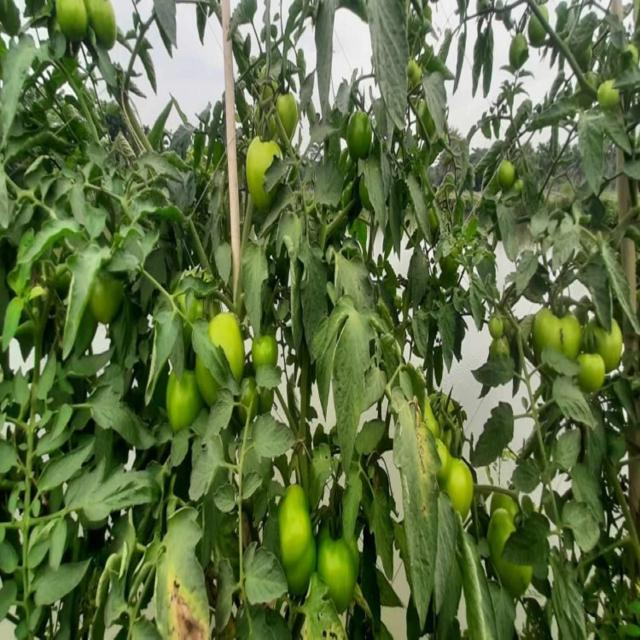tomato: (317, 533, 357, 611), (537, 303, 583, 360), (243, 134, 277, 207), (281, 491, 312, 561), (86, 3, 126, 53), (168, 373, 201, 431), (93, 268, 126, 324), (587, 322, 632, 363), (452, 459, 479, 520), (213, 313, 242, 369), (350, 105, 378, 157), (57, 1, 93, 39), (576, 349, 607, 393), (503, 562, 537, 599), (286, 552, 316, 593), (420, 387, 441, 438), (281, 91, 302, 140), (493, 492, 522, 527), (596, 79, 622, 111), (505, 33, 530, 64), (492, 517, 516, 546), (256, 339, 275, 366), (407, 60, 427, 85), (502, 161, 519, 184), (525, 20, 541, 44), (489, 316, 502, 341)
